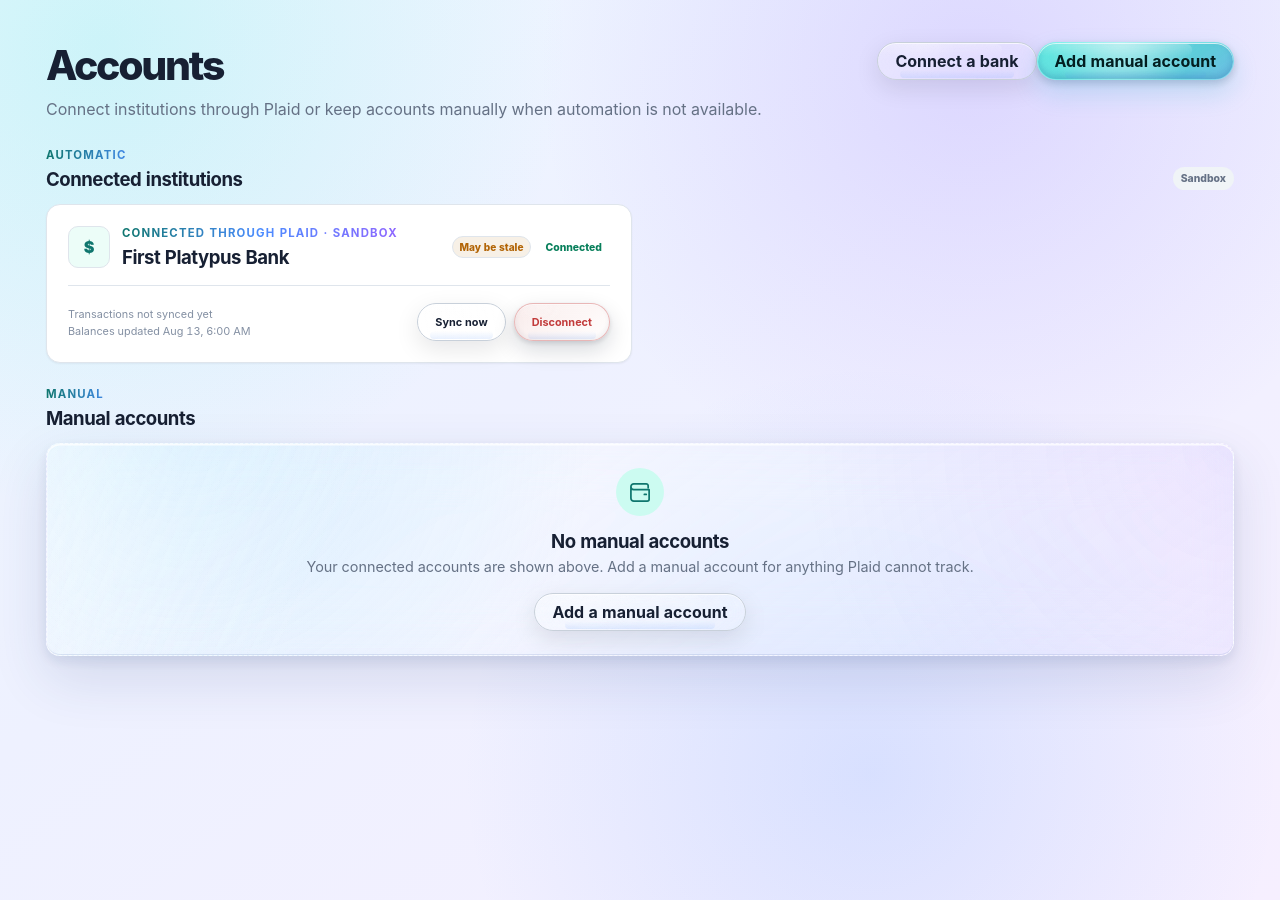
Test case: syncs a connected Plaid institution on demand
What coordinates should you click on to do the following:
click the button "Sync now"
I would click on:
 (461, 322)
Its box is 417,303 -> 506,341.
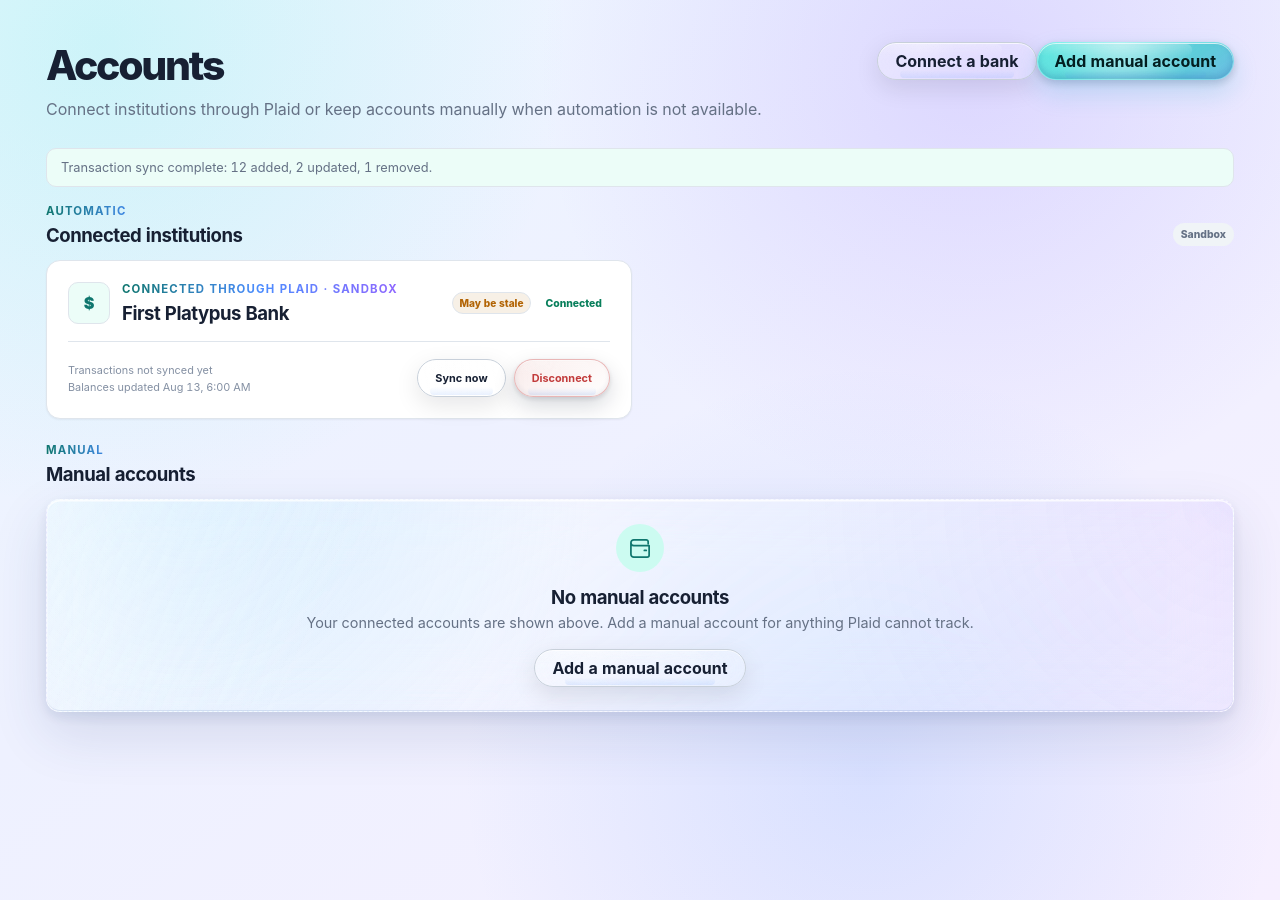
Expected: the message reads "Transaction sync complete: 12 added, 2 updated, 1 removed.", 61,160 -> 432,175
